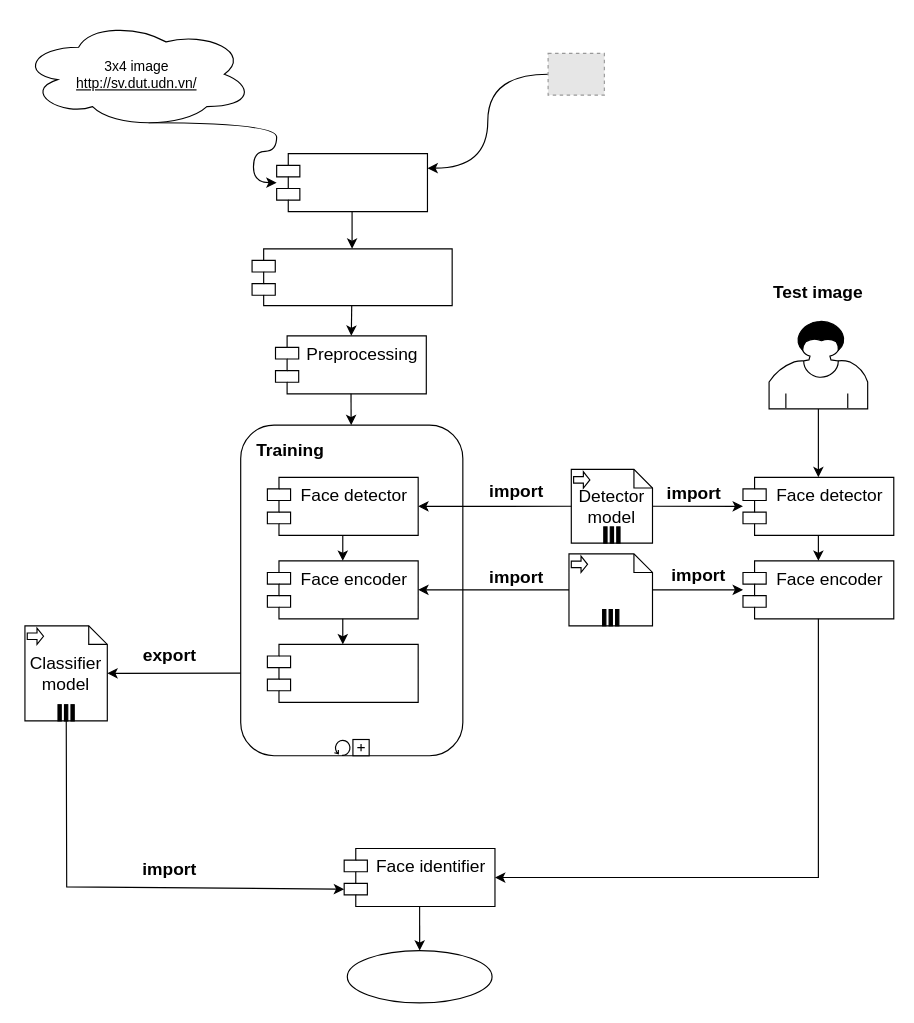
This 914x1023 diagram has some shape labels left out. Grey dashed boxes stand in for pictures. The centre of each missing label's shape, as x and y in pixels:
"Crawl data" belongs at [351,182].
"Data agumentation" belongs at [351,277].
"Face classifier" belongs at [342,672].
"Facenet model" belongs at [610,589].
"Result" belongs at [419,976].
